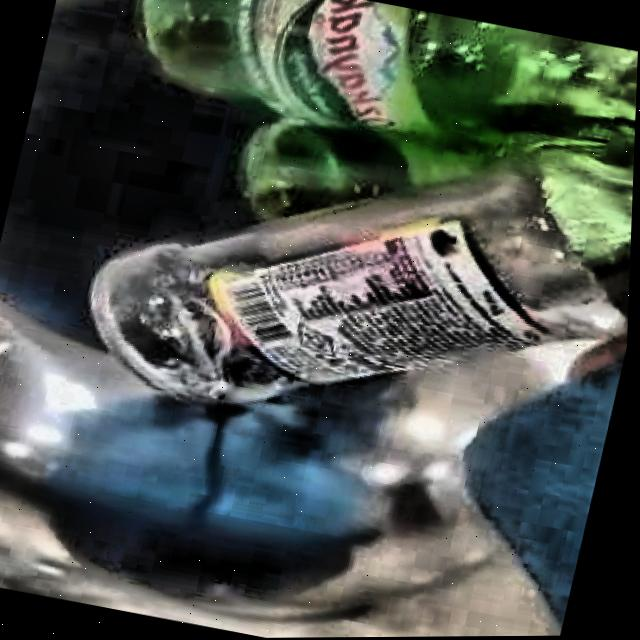glass: (91, 0, 638, 406)
